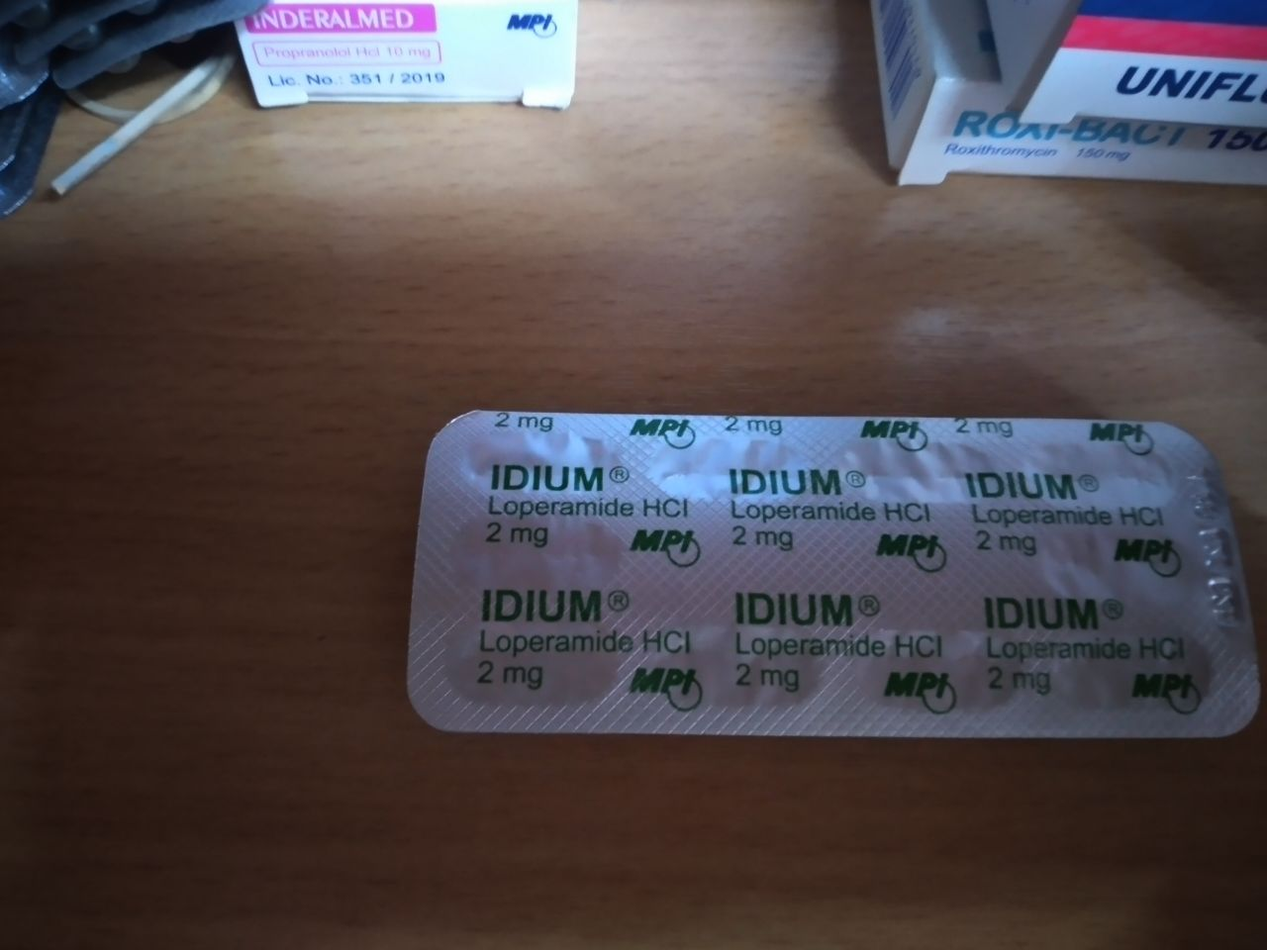Medicine: (408, 383, 1267, 767)
